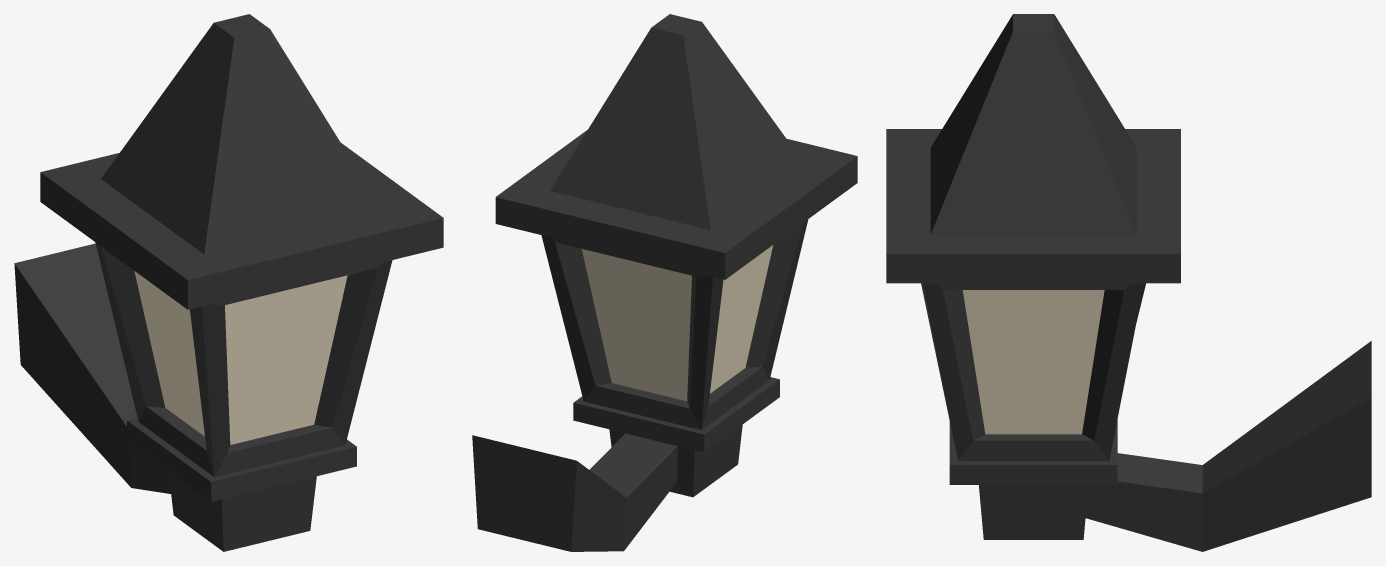
The model's file is steampunk_lantern_hanging.fbx.
The picture shows the model from 3 angles, left to right: view 1: azimuth 30°, elevation 25°; view 2: azimuth 150°, elevation 25°; view 3: azimuth 270°, elevation 25°; orthographic projection. The views are drawn at different scales.
Visible parts, largest first — view 1: Cube.023, Cube.013; view 2: Cube.023, Cube.013; view 3: Cube.023, Cube.013.
Part boxes in pixels (left/top/right/bottom): Cube.023: left=14, top=14, right=443, bottom=551; Cube.013: left=134, top=271, right=347, bottom=444; Cube.023: left=472, top=14, right=857, bottom=551; Cube.013: left=582, top=245, right=773, bottom=401; Cube.023: left=886, top=14, right=1371, bottom=551; Cube.013: left=962, top=290, right=1104, bottom=434.
Size of the model in its own units: 0.4358 by 0.8435 by 0.7179.
